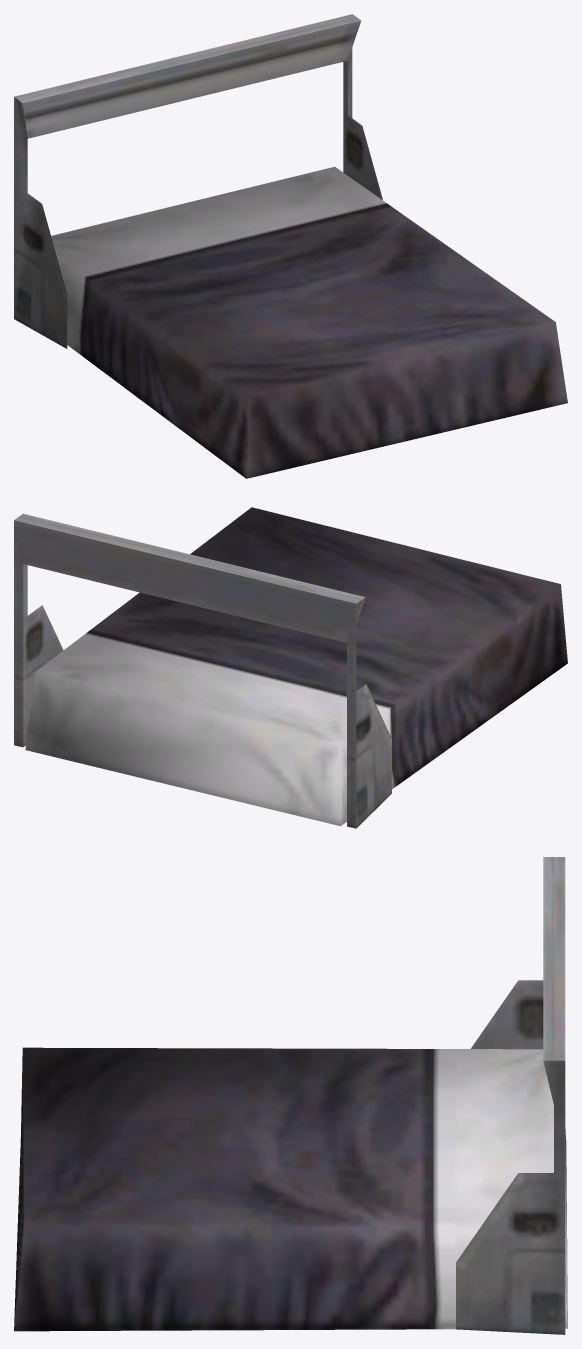
Rendered from frn_all_bed_lg_s2_l3.fbx.
The picture shows the model from 3 angles, top to bottom: view 1: azimuth 30°, elevation 25°; view 2: azimuth 150°, elevation 25°; view 3: azimuth 270°, elevation 25°; orthographic projection. The views are drawn at different scales.
Visible parts, largest first — view 1: mesh_node; view 2: mesh_node; view 3: mesh_node.
Boxes of the visible parts, left/top/right/bottom form: mesh_node: left=14, top=14, right=567, bottom=478; mesh_node: left=14, top=507, right=567, bottom=828; mesh_node: left=14, top=857, right=567, bottom=1334.
Bounding box in the file's own units: 1.72 × 1.09 × 1.98.
1 material, 1 textured.
